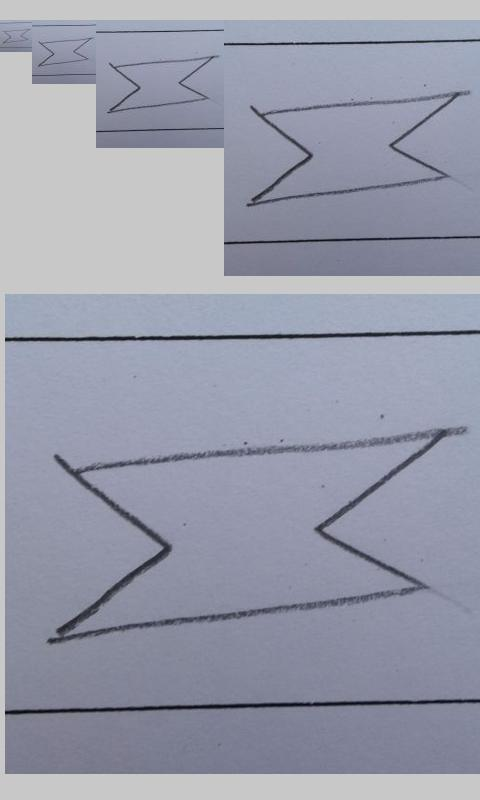edit_text: (52, 426, 445, 646), (248, 91, 459, 207), (108, 56, 213, 113), (38, 38, 91, 67), (3, 29, 30, 43)
